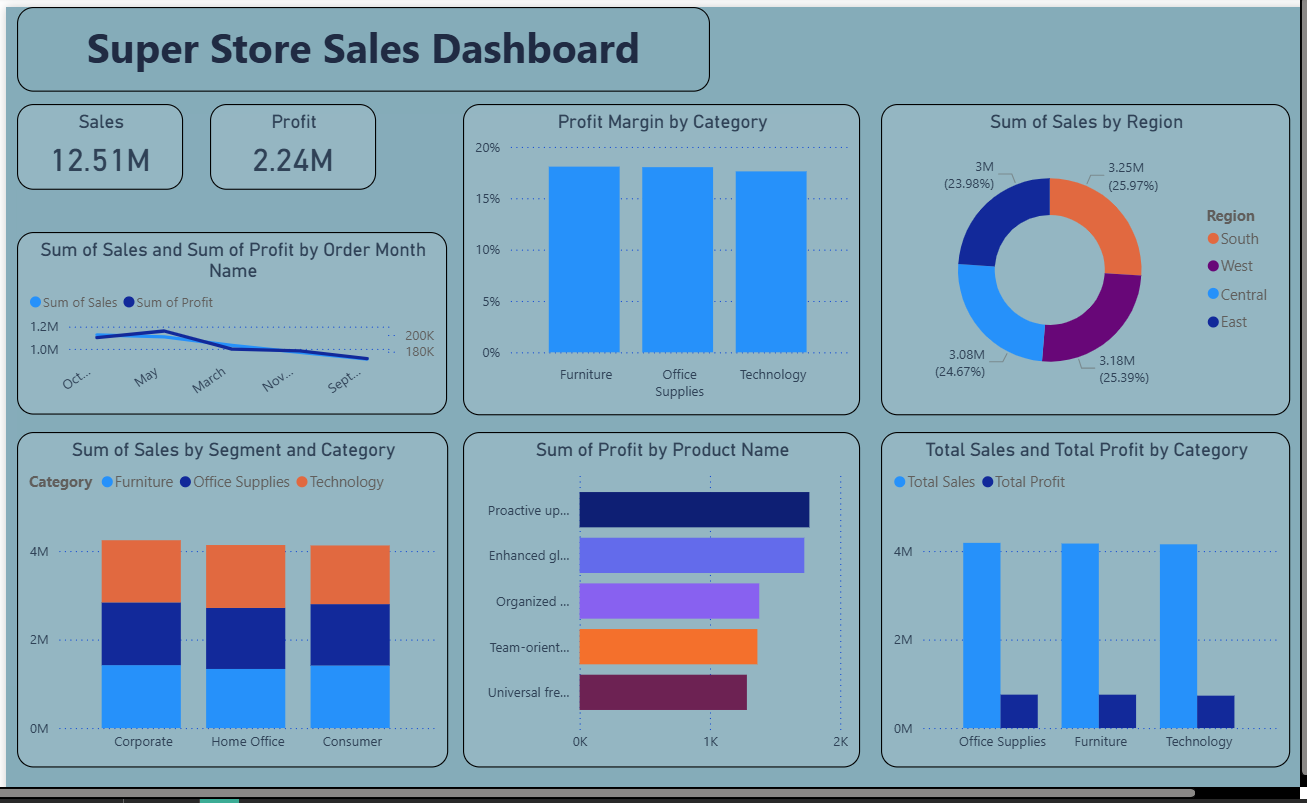

The page's visual inventory and layout, read from the dashboard file:
{"tool":"powerbi","page":{"name":"Page 1","canvas":[1280,720],"ordinal":0},"visuals":[{"type":"textbox","box":[10,0,630,77.3],"z":0},{"type":"card","title":"Sales","fields":{"Values":["Sum(superstore_data.Sales)"]},"box":[10,88,151,78],"z":1000},{"type":"card","title":"Profit","fields":{"Values":["Sum(superstore_data.Profit)"]},"box":[185.5,88.2,150.9,78.2],"z":2000},{"type":"lineChart","fields":{"Category":["superstore_data.Order Month Name"],"Y":["Sum(superstore_data.Sales)"],"Y2":["Sum(superstore_data.Profit)"]},"box":[10,204.5,390.9,166.4],"z":3000},{"type":"clusteredColumnChart","fields":{"Category":["superstore_data.Category"],"Y":["superstore_data.Total Sales","superstore_data.Total Profit"]},"box":[795.5,386.4,371.8,305.5],"z":4000},{"type":"donutChart","fields":{"Y":["Sum(superstore_data.Sales)"],"Category":["superstore_data.Region"]},"box":[795.5,88.2,371.8,282.7],"z":5000},{"type":"columnChart","fields":{"Category":["superstore_data.Segment"],"Y":["Sum(superstore_data.Sales)"],"Series":["superstore_data.Category"]},"box":[10,386.4,391.8,305.5],"z":6000},{"type":"barChart","fields":{"Category":["superstore_data.Product Name"],"Y":["Sum(superstore_data.Profit)"]},"box":[415.5,386.4,360.9,305.5],"z":7000},{"type":"columnChart","fields":{"Category":["superstore_data.Category"],"Y":["superstore_data.Profit Margin"]},"box":[415.5,88.2,360.9,282.7],"z":8000}]}

Visuals, with their boxes on the page's 1280x720 design canvas (x1, y1, x2, y2). These are canvas units, not pixel positions in the 1307x803 screenshot, which may show the page scaled, cropped or inside an application window:
textbox: (10, 0, 640, 77)
"Sales" card: (10, 88, 161, 166)
"Profit" card: (186, 88, 336, 166)
lineChart - superstore_data.Order Month Name x Sum(superstore_data.Sales): (10, 204, 401, 371)
clusteredColumnChart - superstore_data.Category x superstore_data.Total Sales: (796, 386, 1167, 692)
donutChart - Sum(superstore_data.Sales) x superstore_data.Region: (796, 88, 1167, 371)
columnChart - superstore_data.Segment x Sum(superstore_data.Sales): (10, 386, 402, 692)
barChart - superstore_data.Product Name x Sum(superstore_data.Profit): (416, 386, 776, 692)
columnChart - superstore_data.Category x superstore_data.Profit Margin: (416, 88, 776, 371)
